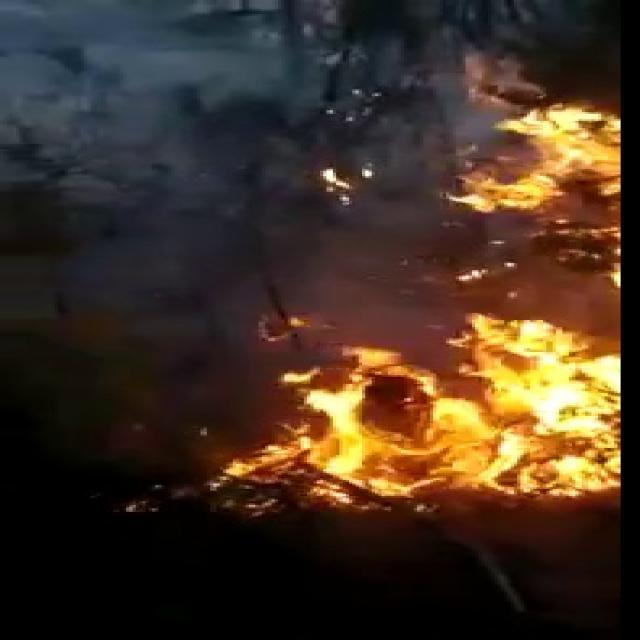Fire: (283, 304, 618, 500), (479, 93, 640, 225), (306, 148, 388, 198)
Smoke: (0, 0, 274, 306)
